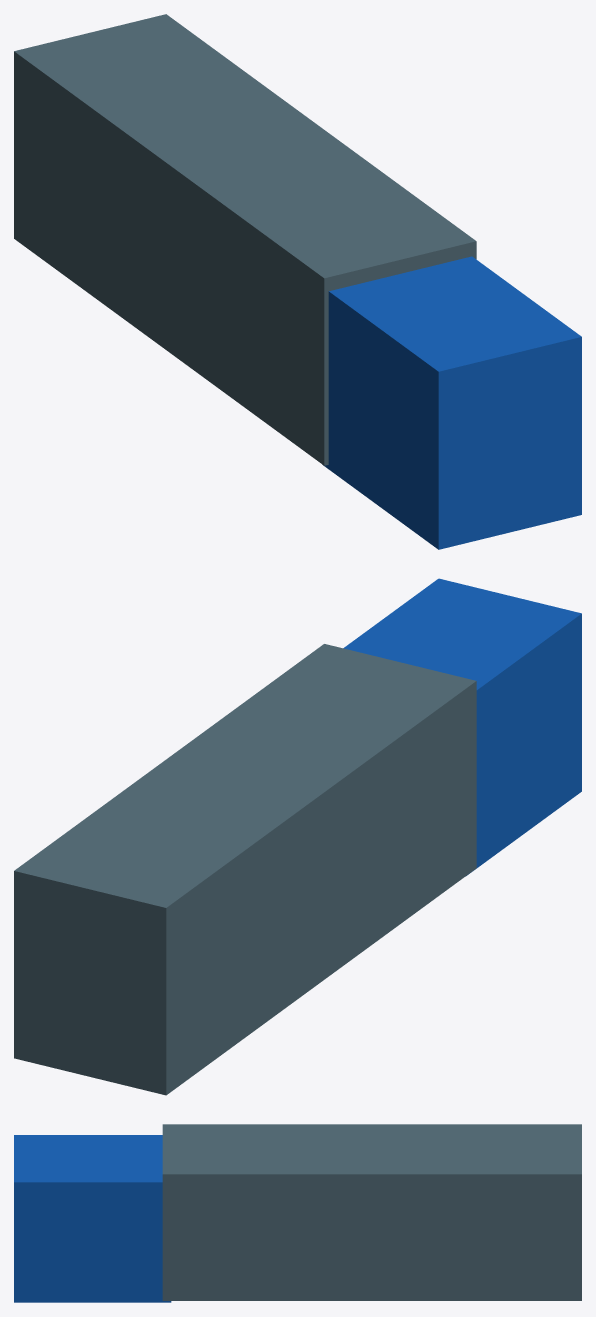
The model's file is heavy_truck.glb.
3 views of the same model, one above another, from view 1: azimuth 30°, elevation 25°; view 2: azimuth 150°, elevation 25°; view 3: azimuth 270°, elevation 25° (orthographic). The views are drawn at different scales.
Size of the model in its own units: 3.4 by 4.1 by 16.25.
